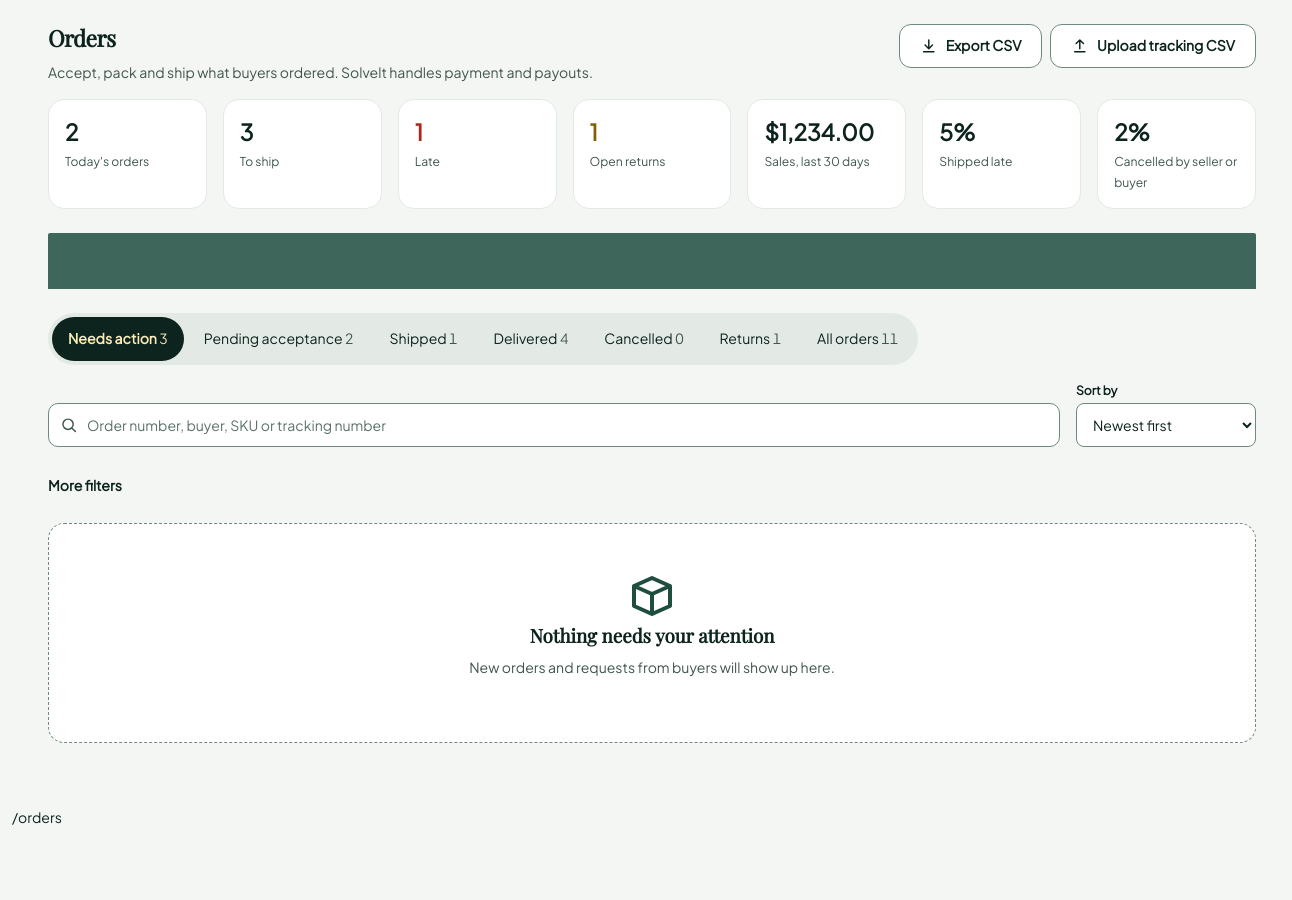
Test: orders list › friendly empty states, with a way to clear filters
The image size is (1292, 900).
Expected: the heading "Nothing needs your attention" is shown, [530, 622, 774, 648]
Type "nope" into the search field named "Search orders".
click(554, 425); type("nope")  # box [48, 403, 1060, 447]
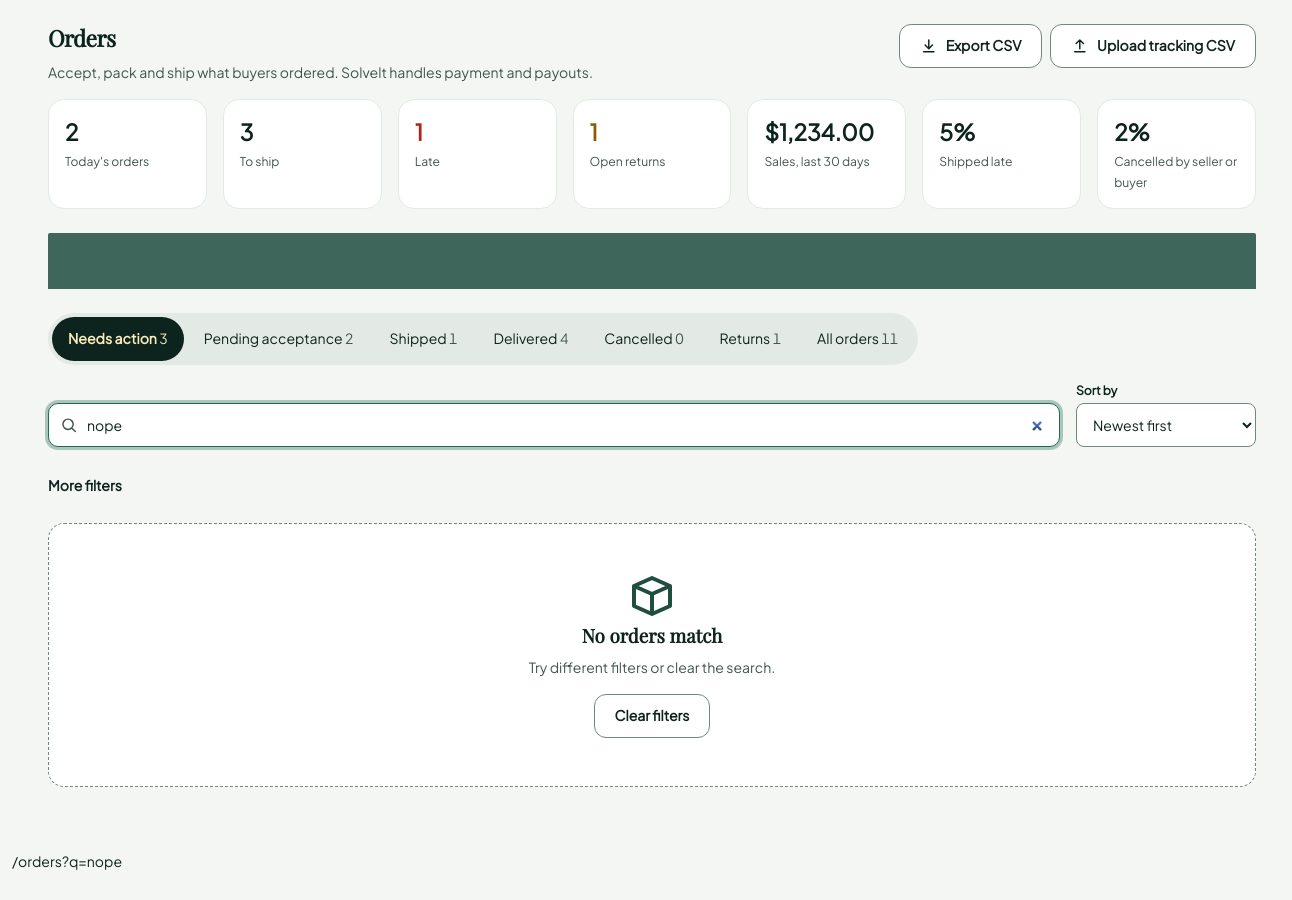
Result: the heading "No orders match" is shown at [582, 622, 722, 648]
Result: the button "Clear filters" is shown at [594, 694, 710, 738]
